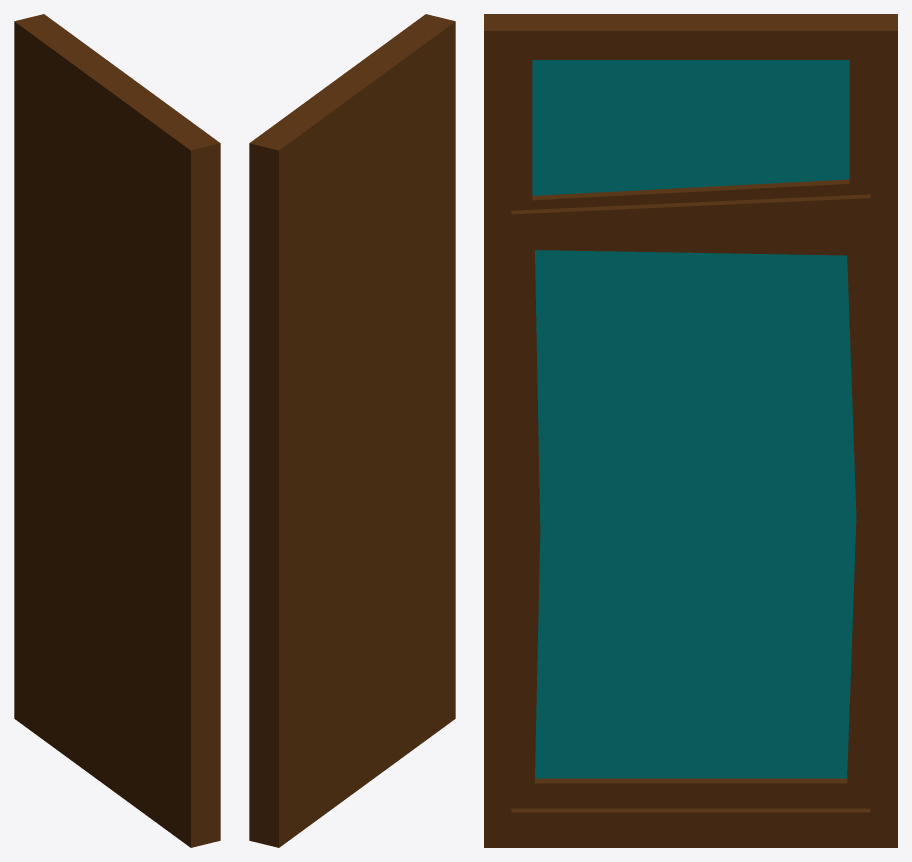
Rendered from ButcherDoor.fbx.
The picture shows the model from 3 angles, left to right: view 1: azimuth 30°, elevation 25°; view 2: azimuth 150°, elevation 25°; view 3: azimuth 270°, elevation 25°; orthographic projection. The views are drawn at different scales.
Visible parts, largest first — view 1: door; view 2: door; view 3: door.
Part boxes in pixels (x1,y1,x2,y2): door: (14, 14, 220, 847); door: (249, 14, 455, 847); door: (484, 14, 897, 847).
Bounding box in the file's own units: 14.24 × 146 × 318.
